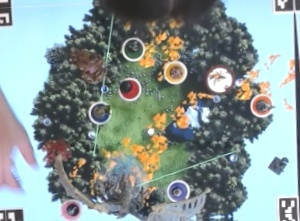blue: (87, 97, 113, 126)
green: (121, 35, 146, 63)
orange: (245, 90, 277, 118)
pink: (58, 196, 84, 220)
red: (115, 73, 143, 103)
violet: (164, 175, 192, 203)
yellow: (161, 57, 190, 86)
